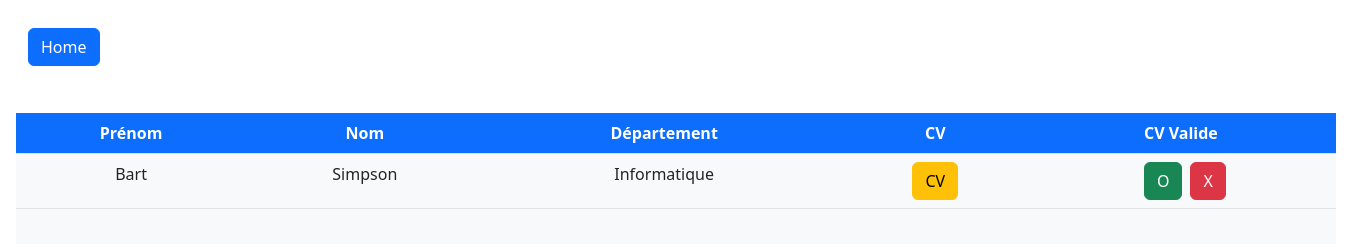
Scenario: StudentCvValidationPageTests › ValidateCvTest
This screenshot has width=1353, height=244.
Click the button "O".
click(1163, 181)  # box [1144,162,1182,200]
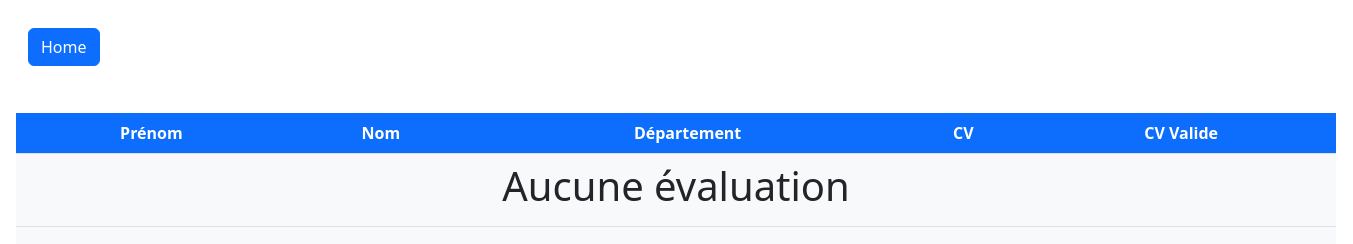
Now the text "Bart" is gone
